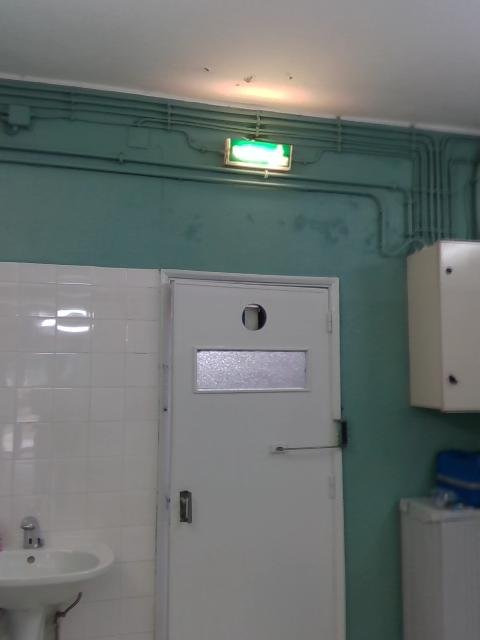door: (166, 279, 334, 640)
